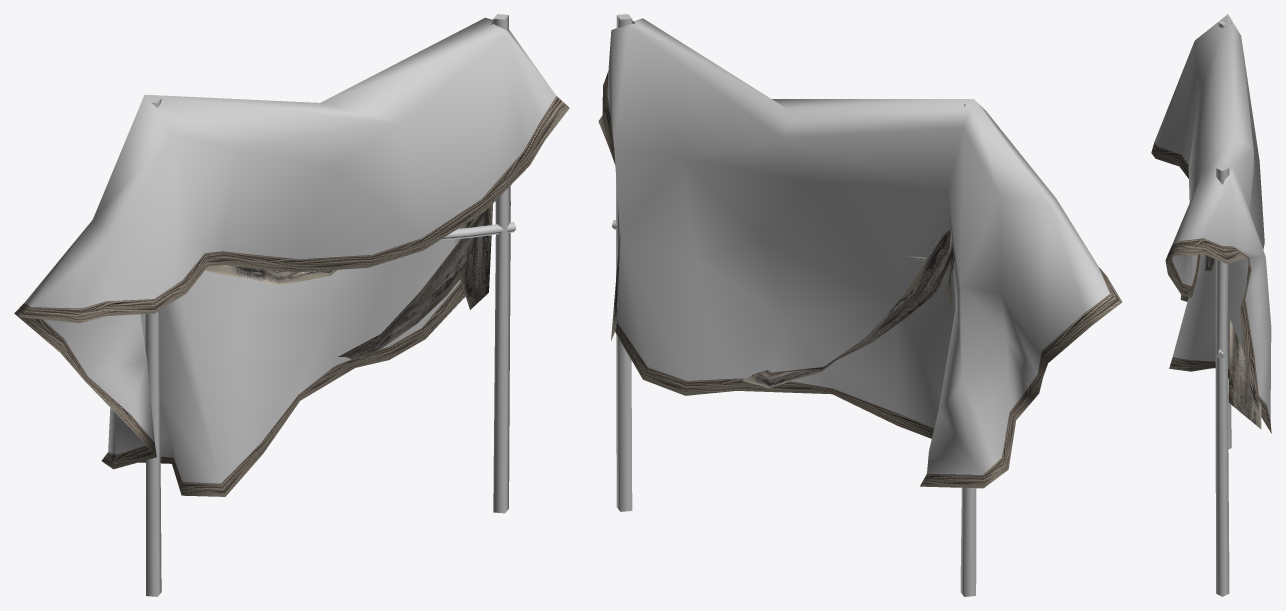
Rendered from Fishnet1_LOD1.fbx.
3 renders of one model, left to right at view 1: azimuth 30°, elevation 25°; view 2: azimuth 150°, elevation 25°; view 3: azimuth 270°, elevation 25°, orthographic. The views are drawn at different scales.
Parts seen in each view (by area): view 1: polySurface1187; view 2: polySurface1187; view 3: polySurface1187.
Boxes of the visible parts, left/top/right/bottom form: polySurface1187: left=14, top=14, right=569, bottom=596; polySurface1187: left=598, top=14, right=1122, bottom=596; polySurface1187: left=1151, top=14, right=1271, bottom=596.
Bounding box in the file's own units: 7.37 × 6.62 × 1.68.
